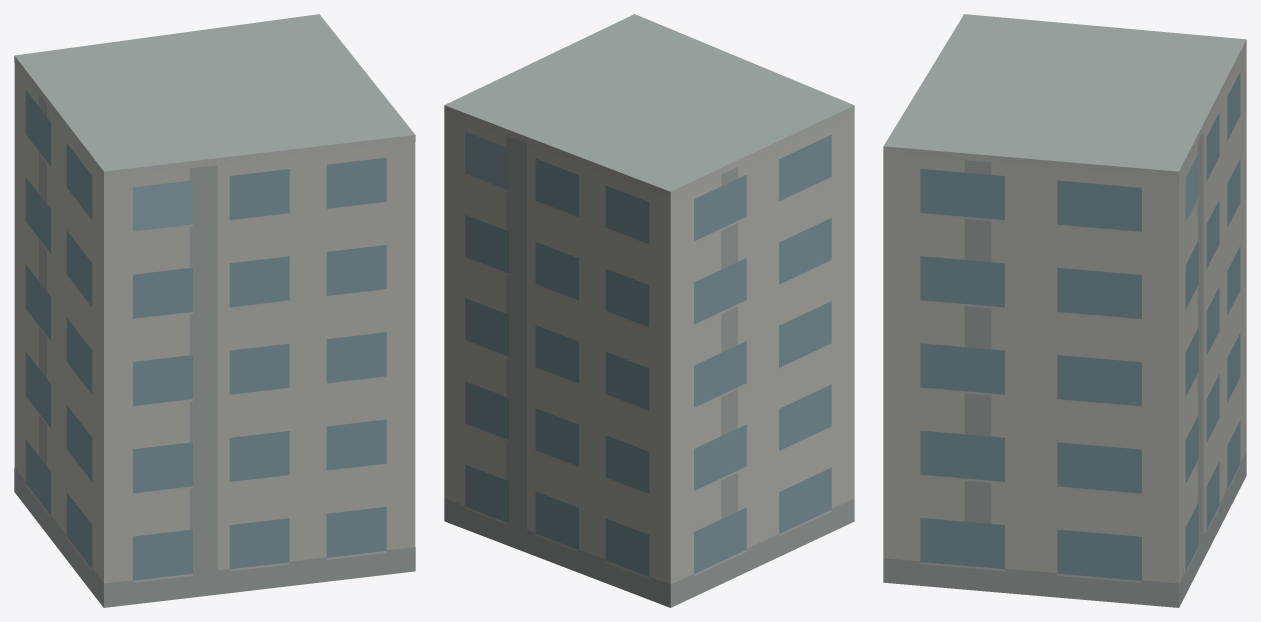
The model's file is survey-upis-32799453.glb.
3 views of the same model, side by side, from view 1: azimuth 30°, elevation 25°; view 2: azimuth 150°, elevation 25°; view 3: azimuth 270°, elevation 25° (orthographic). The views are drawn at different scales.
Visible parts, largest first — view 1: survey-upis-32799453.tmp; view 2: survey-upis-32799453.tmp; view 3: survey-upis-32799453.tmp.
Boxes of the visible parts, x1=… form: survey-upis-32799453.tmp: x1=14, y1=14, x2=415, y2=607; survey-upis-32799453.tmp: x1=444, y1=14, x2=854, y2=607; survey-upis-32799453.tmp: x1=883, y1=14, x2=1246, y2=607.
Bounding box in the file's own units: 11.82 × 15.25 × 11.52.
